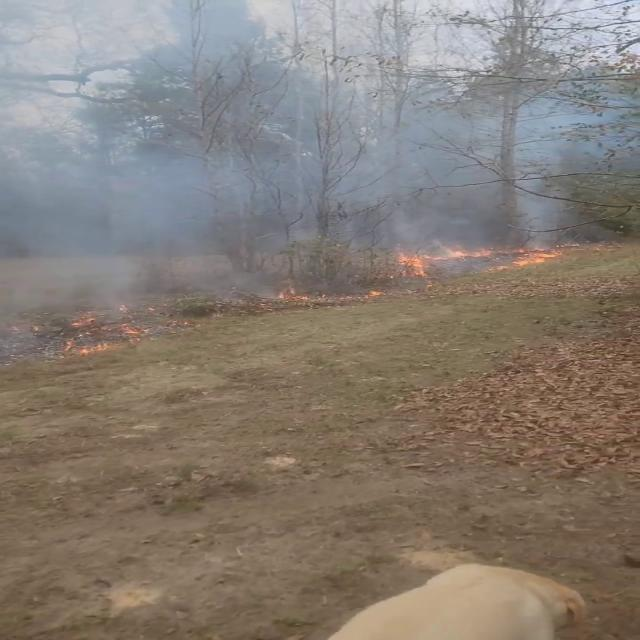Fire: (389, 239, 571, 275), (390, 240, 502, 276)
Smoke: (0, 0, 640, 290)
